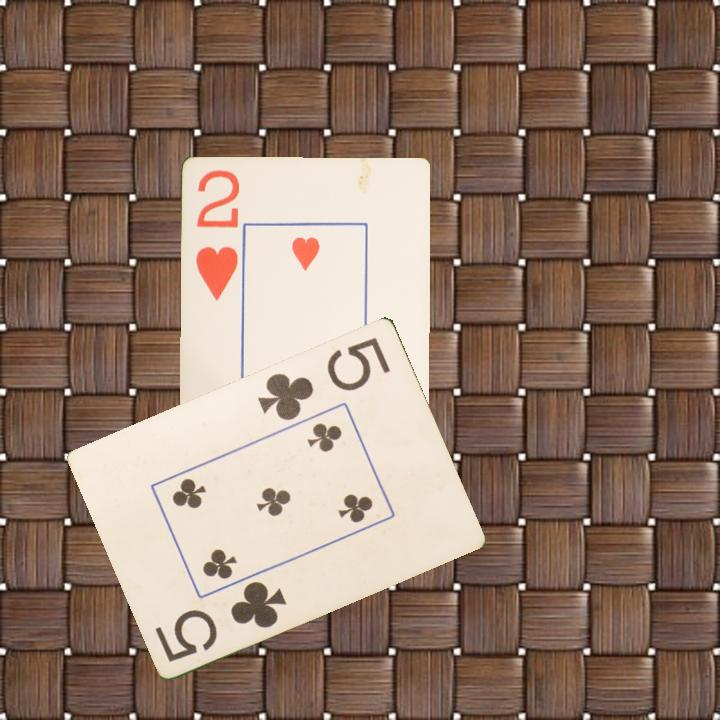2h: (193, 167, 242, 304)
5c: (254, 333, 393, 423), (151, 577, 290, 665)
